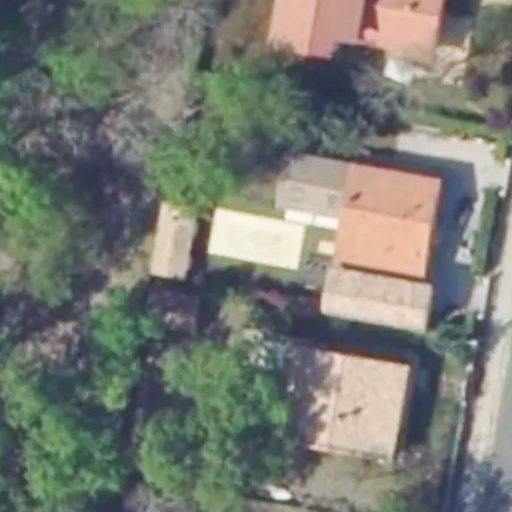pool: (205, 204, 312, 276)
